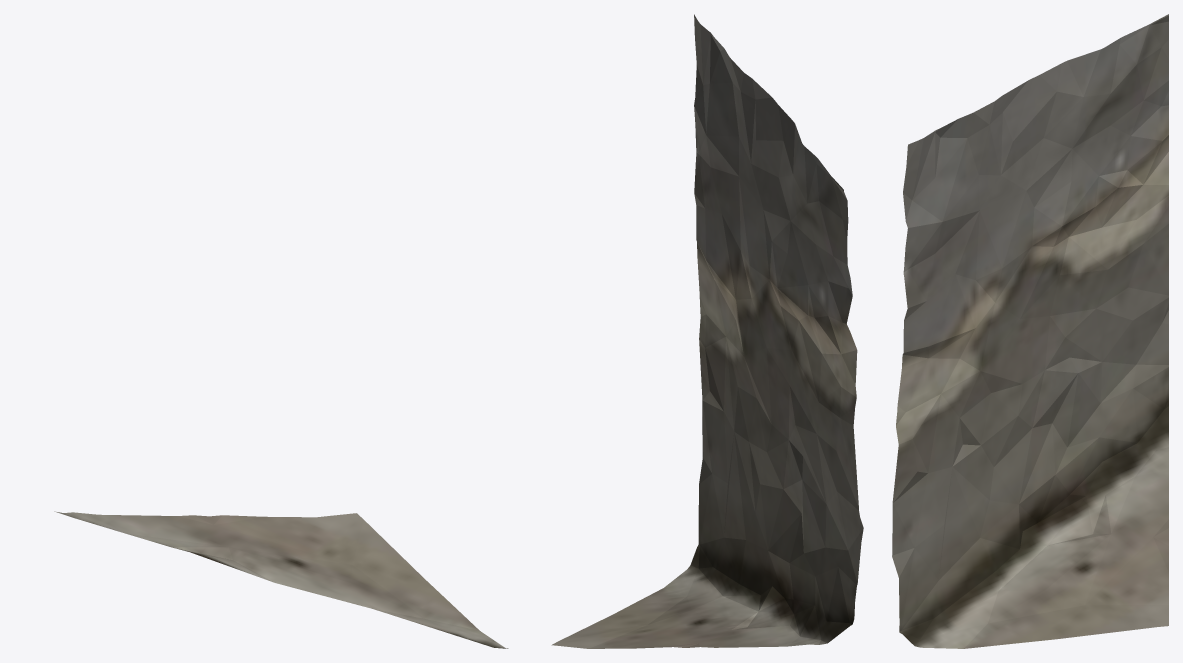
3 views of the same model, side by side, from view 1: azimuth 30°, elevation 25°; view 2: azimuth 150°, elevation 25°; view 3: azimuth 270°, elevation 25° (orthographic). The views are drawn at different scales.
Bounding box in the file's own units: 0.2277 × 0.3843 × 0.1912.
1 material, 1 textured.
